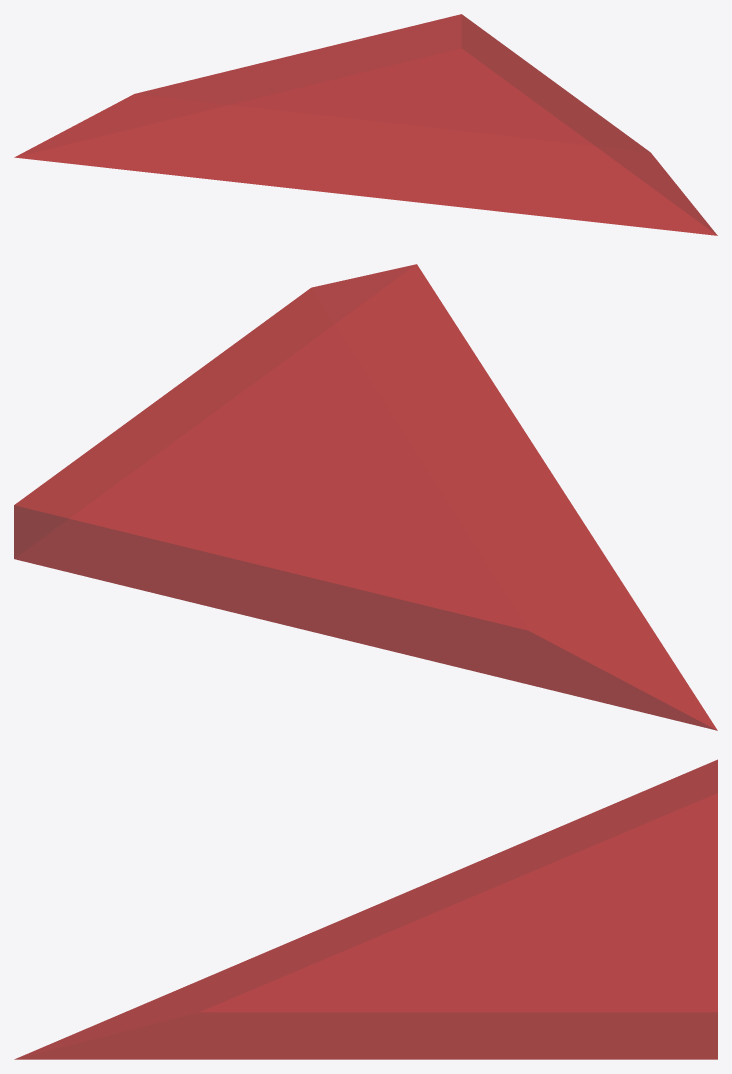
The model's file is SM_Env_Dwarf_Stairs_Small_Corner_02_Collision.fbx.
3 views of the same model, one above another, from view 1: azimuth 30°, elevation 25°; view 2: azimuth 150°, elevation 25°; view 3: azimuth 270°, elevation 25° (orthographic). The views are drawn at different scales.
Parts seen in each view (by area): view 1: SM_Env_Dwarf_Stairs_Small_Corner_02_Collision; view 2: SM_Env_Dwarf_Stairs_Small_Corner_02_Collision; view 3: SM_Env_Dwarf_Stairs_Small_Corner_02_Collision.
Boxes of the visible parts, x1=… form: SM_Env_Dwarf_Stairs_Small_Corner_02_Collision: x1=14, y1=14, x2=717, y2=235; SM_Env_Dwarf_Stairs_Small_Corner_02_Collision: x1=14, y1=264, x2=717, y2=730; SM_Env_Dwarf_Stairs_Small_Corner_02_Collision: x1=14, y1=759, x2=717, y2=1059.
Bounding box in the file's own units: 684 × 50 × 678.
